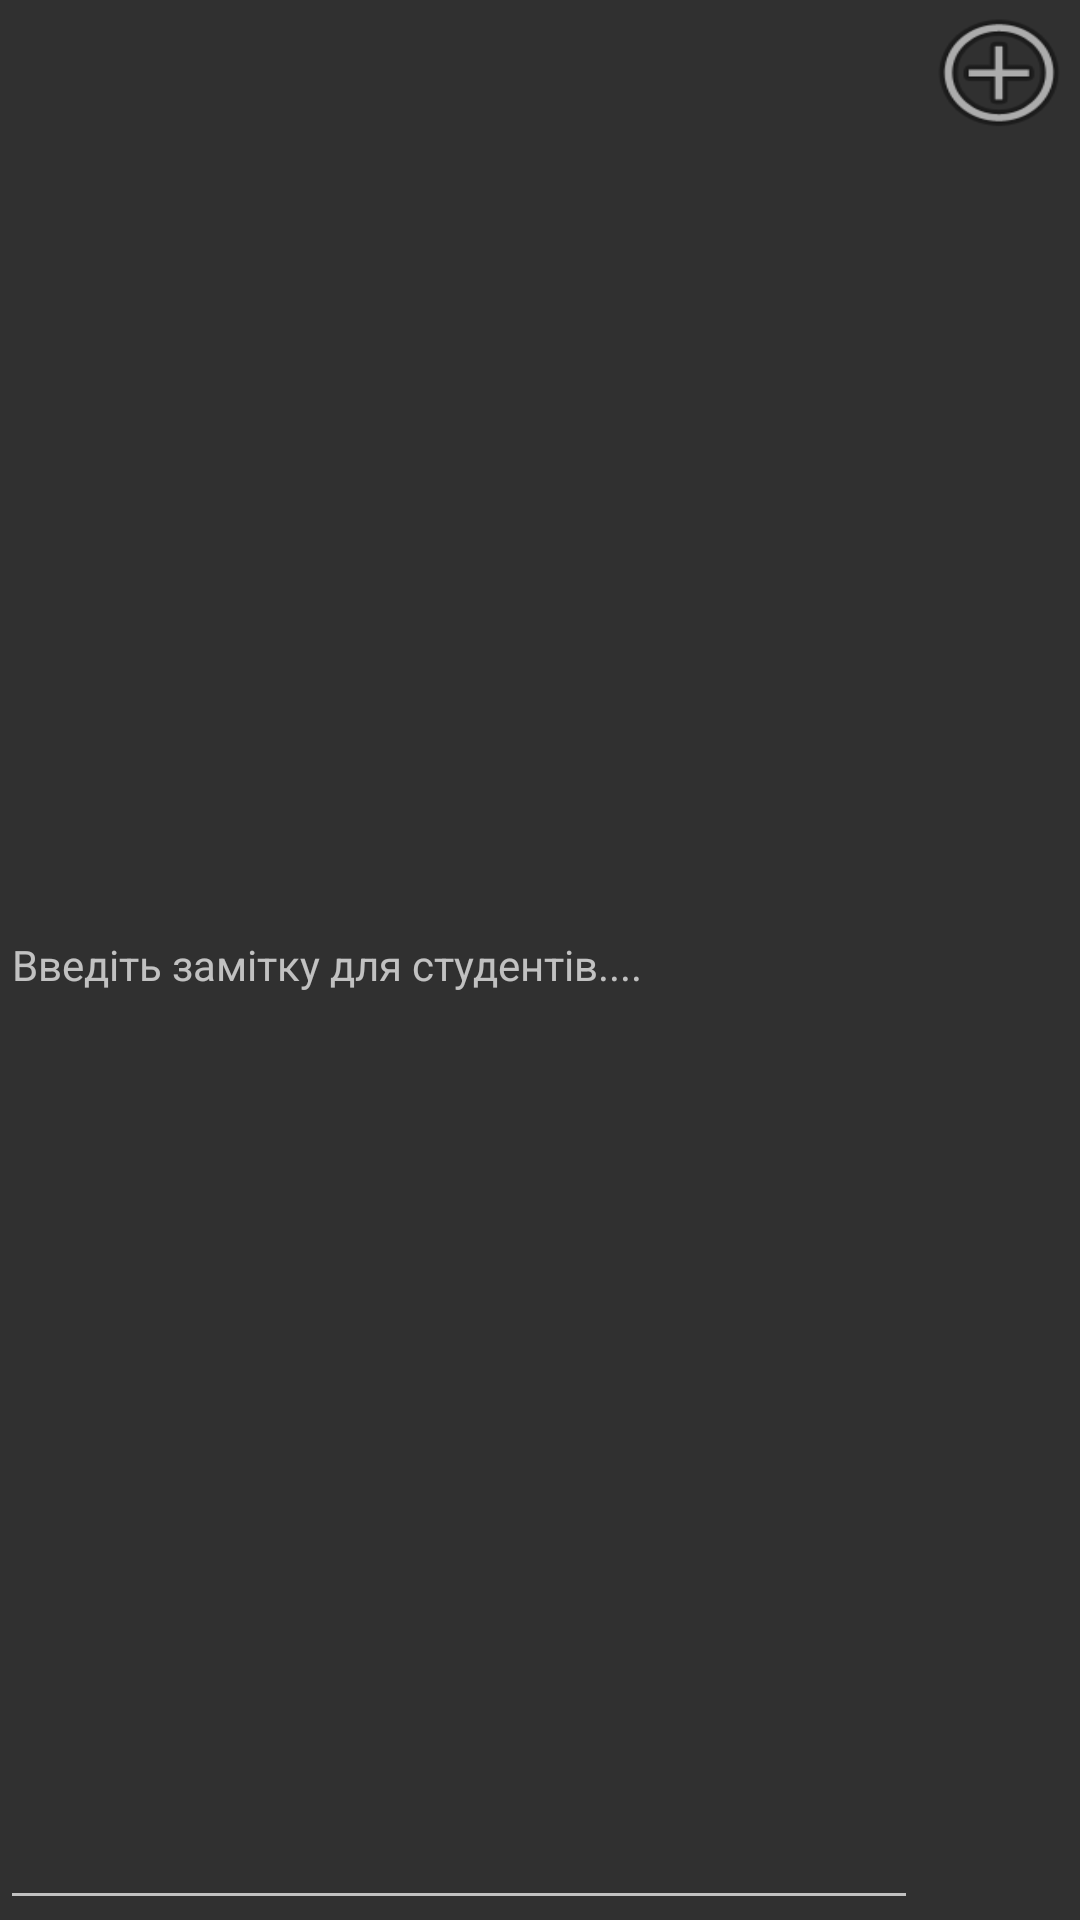

Named icons in this screenshot (1080x1920) and their bounding boxes, (x1, y1, x2, y2):
add: (944, 24, 1054, 123)
